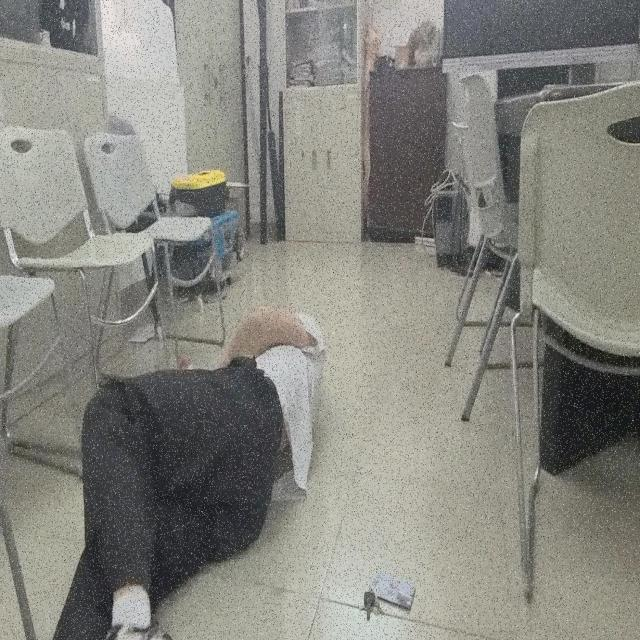fall: (49, 310, 326, 639)
